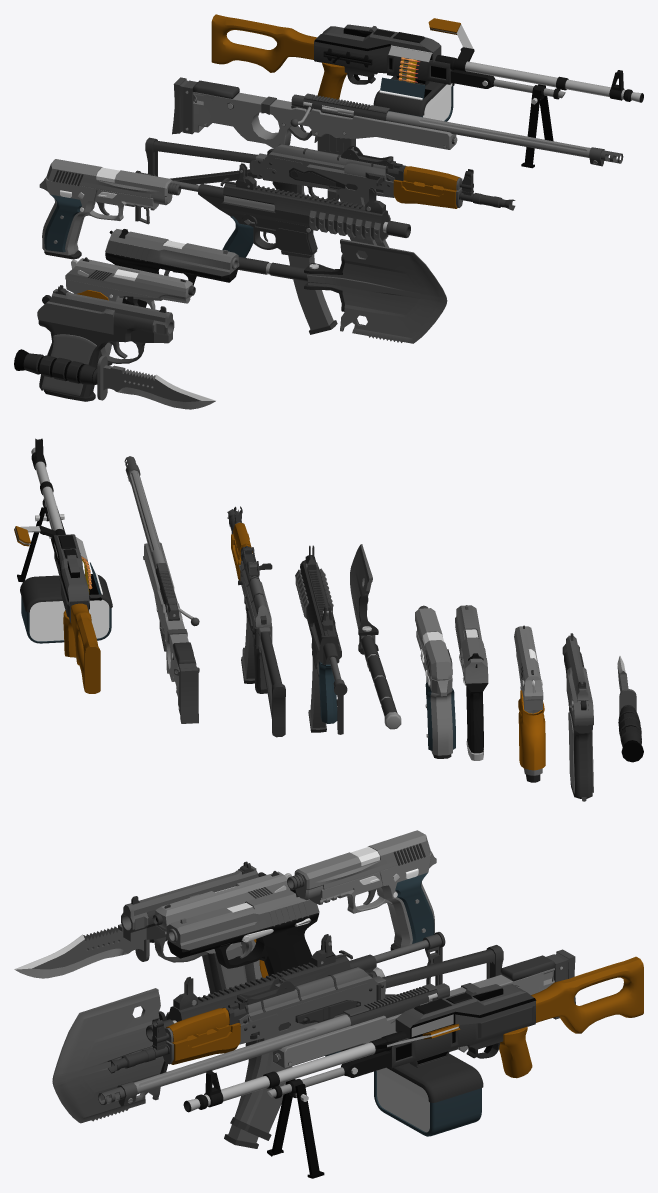
Rendered from weapon_pack_of_10100_part_4.glb.
3 views of the same model, one above another, from view 1: azimuth 30°, elevation 25°; view 2: azimuth 150°, elevation 25°; view 3: azimuth 270°, elevation 25° (orthographic). The views are drawn at different scales.
Visible parts, largest first — view 1: PKM, AW_338, AKS74U, Sig_Saguer_Mpx, Tactic_Shovel, PSS_Assassin_Pistol, Sig_Saguer_P226, HK_USP, Halmak_Komando, Makarov; view 2: PKM, AW_338, AKS74U, Sig_Saguer_Mpx, Sig_Saguer_P226, PSS_Assassin_Pistol, Makarov, HK_USP, Tactic_Shovel, Halmak_Komando; view 3: PKM, AKS74U, AW_338, Tactic_Shovel, Sig_Saguer_P226, HK_USP, Sig_Saguer_Mpx, PSS_Assassin_Pistol, Makarov, Halmak_Komando.
Part boxes in pixels (left/top/right/bottom): PKM: left=211, top=14, right=643, bottom=168; AW_338: left=172, top=77, right=623, bottom=166; AKS74U: left=145, top=137, right=515, bottom=258; Sig_Saguer_Mpx: left=135, top=163, right=410, bottom=334; Tactic_Shovel: left=238, top=239, right=447, bottom=343; PSS_Assassin_Pistol: left=37, top=285, right=174, bottom=401; Sig_Saguer_P226: left=39, top=159, right=181, bottom=259; HK_USP: left=105, top=229, right=239, bottom=307; Halmak_Komando: left=14, top=349, right=215, bottom=409; Makarov: left=65, top=257, right=195, bottom=365; PKM: left=14, top=438, right=112, bottom=693; AW_338: left=124, top=456, right=199, bottom=723; AKS74U: left=227, top=506, right=285, bottom=737; Sig_Saguer_Mpx: left=295, top=545, right=347, bottom=734; Sig_Saguer_P226: left=415, top=605, right=455, bottom=758; PSS_Assassin_Pistol: left=562, top=633, right=593, bottom=801; Makarov: left=514, top=625, right=545, bottom=782; HK_USP: left=455, top=605, right=488, bottom=760; Tactic_Shovel: left=350, top=544, right=401, bottom=729; Halmak_Komando: left=617, top=656, right=643, bottom=762; PKM: left=183, top=956, right=643, bottom=1178; AKS74U: left=107, top=945, right=503, bottom=1140; AW_338: left=98, top=949, right=575, bottom=1106; Tactic_Shovel: left=52, top=967, right=384, bottom=1123; Sig_Saguer_P226: left=287, top=830, right=436, bottom=950; HK_USP: left=166, top=889, right=319, bottom=976; Sig_Saguer_Mpx: left=146, top=932, right=445, bottom=1148; PSS_Assassin_Pistol: left=121, top=861, right=266, bottom=994; Makarov: left=152, top=871, right=291, bottom=982; Halmak_Komando: left=14, top=924, right=167, bottom=978.
Size of the model in its own units: 75.17 by 23.71 by 55.19.
2 materials, 2 textured.
